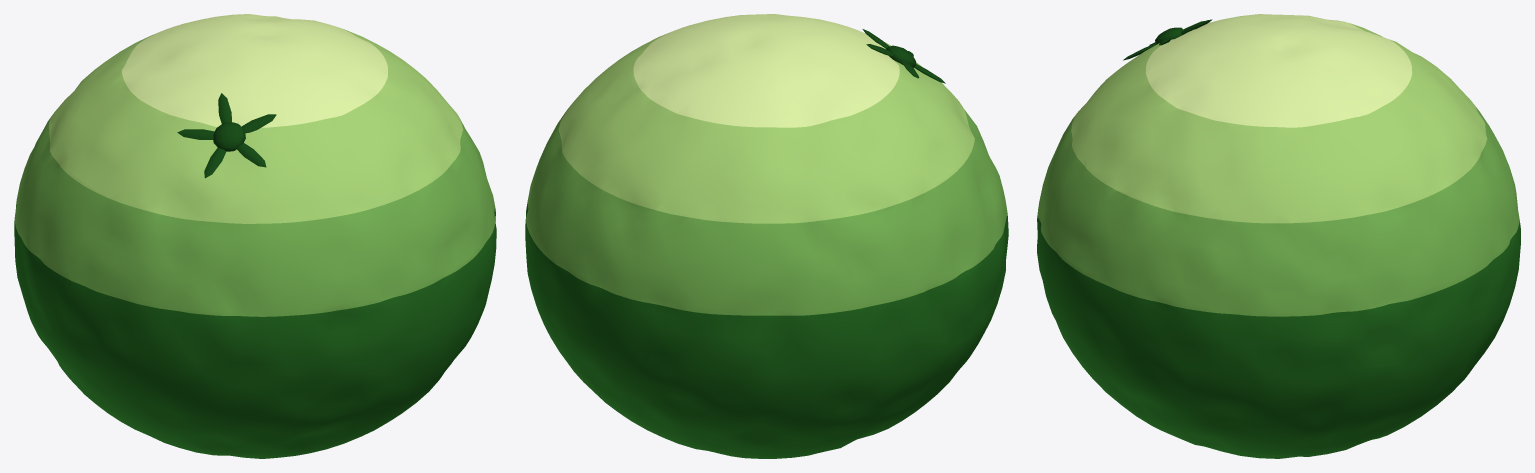
The model's file is fruit_round.glb.
The picture shows the model from 3 angles, left to right: view 1: azimuth 30°, elevation 25°; view 2: azimuth 150°, elevation 25°; view 3: azimuth 270°, elevation 25°; orthographic projection.
Parts seen in each view (by area): view 1: fruit_round; view 2: fruit_round; view 3: fruit_round.
Part boxes in pixels (bbox=[...]): fruit_round: bbox=[14, 14, 496, 458]; fruit_round: bbox=[525, 14, 1008, 458]; fruit_round: bbox=[1037, 14, 1520, 458].
Bounding box in the file's own units: 11.99 × 10.79 × 11.97.
